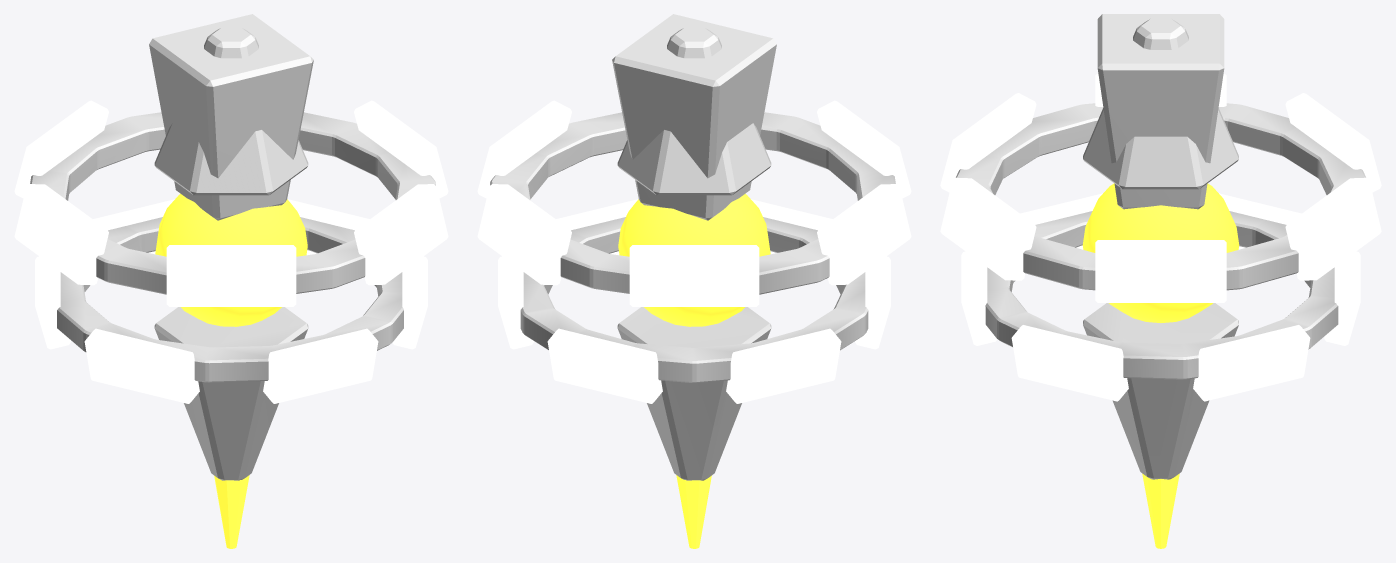
Rendered from e4_solar_obelisk.glb.
3 views of the same model, side by side, from view 1: azimuth 30°, elevation 25°; view 2: azimuth 150°, elevation 25°; view 3: azimuth 270°, elevation 25° (orthographic).
Parts seen in each view (by area): view 1: TopCap, MirrorFrameA, MirrorFrameB, BotSpire, MirrorA_4, TopSpire, SolarCore, MirrorA_5, MirrorA_3, MirrorB_3, MirrorB_4, MirrorA_2 (+6 smaller); view 2: TopCap, MirrorFrameA, MirrorFrameB, BotSpire, MirrorA_2, TopSpire, SolarCore, MirrorA_1, MirrorA_3, MirrorB_1, MirrorB_2, MirrorA_4 (+6 smaller); view 3: TopCap, MirrorFrameA, MirrorFrameB, BotSpire, MirrorA_0, TopSpire, SolarCore, MirrorA_1, MirrorA_5, MirrorB_0, MirrorB_5, MirrorA_2 (+6 smaller).
Part boxes in pixels (x1,y1,x2,y2): TopCap: (149,14,313,220); MirrorFrameA: (30,112,435,294); MirrorFrameB: (57,217,403,382); BotSpire: (154,307,308,480); MirrorA_4: (166,245,296,306); TopSpire: (154,27,308,195); SolarCore: (155,193,307,326); MirrorA_5: (354,184,448,285); MirrorA_3: (14,184,108,285); MirrorB_3: (84,328,199,403); MirrorB_4: (263,328,378,403); MirrorA_2: (14,100,108,198); TopCap: (612,14,776,220); MirrorFrameA: (490,112,895,294); MirrorFrameB: (520,217,868,382); BotSpire: (617,307,771,480); MirrorA_2: (629,245,759,306); TopSpire: (617,27,771,195); SolarCore: (618,193,770,326); MirrorA_1: (477,184,571,285); MirrorA_3: (817,184,911,285); MirrorB_1: (547,328,662,403); MirrorB_2: (726,328,841,403); MirrorA_4: (817,100,911,198); TopCap: (1097,14,1224,209); MirrorFrameA: (956,103,1365,290); MirrorFrameB: (985,211,1338,379); BotSpire: (1083,303,1238,479); MirrorA_0: (1095,240,1226,302); TopSpire: (1083,18,1238,189); SolarCore: (1082,183,1239,322); MirrorA_1: (1285,177,1381,280); MirrorA_5: (940,177,1036,280); MirrorB_0: (1193,325,1310,401); MirrorB_5: (1011,325,1128,401); MirrorA_2: (1285,93,1381,192).
Bounding box in the file's own units: 2.05 × 2.7 × 2.07.
